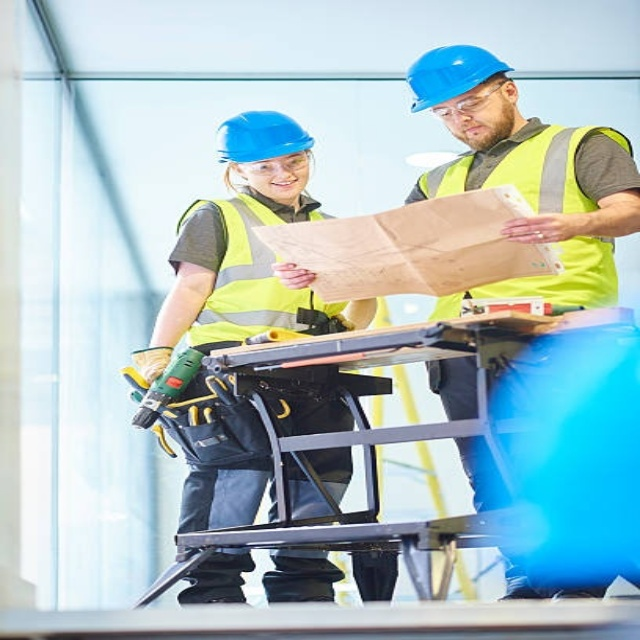Gafas: (429, 81, 506, 120), (239, 152, 311, 176)
Guantes: (116, 345, 176, 390)
Sin_guantes: (498, 214, 572, 246), (271, 260, 316, 290)
Sin_mascara: (456, 121, 491, 143), (264, 176, 304, 195)
